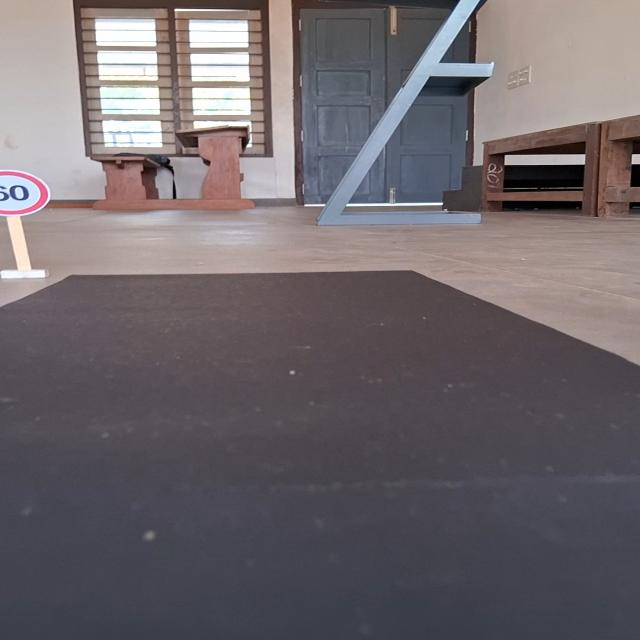Speed60: (0, 167, 53, 220)
